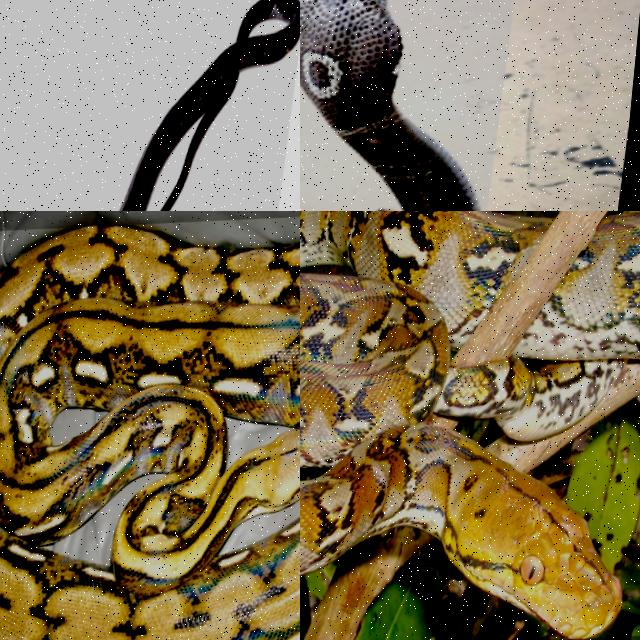Malayopython reticulatus: (300, 211, 621, 638), (0, 226, 299, 639)
Naja kaouthia: (300, 0, 478, 210)
Ophiophagus hannah: (120, 0, 299, 210)
snake: (300, 211, 621, 638), (0, 226, 299, 639), (120, 0, 299, 210), (300, 0, 478, 210)
